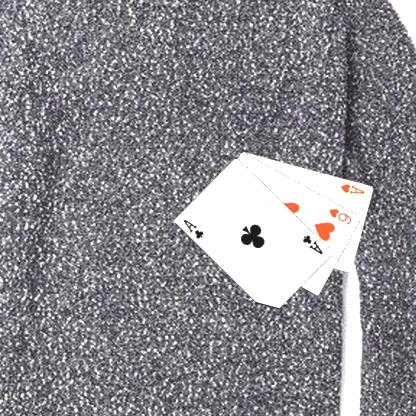6H: (326, 206, 353, 226)
AC: (300, 232, 325, 256), (181, 217, 205, 240)
AH: (338, 181, 366, 195)
